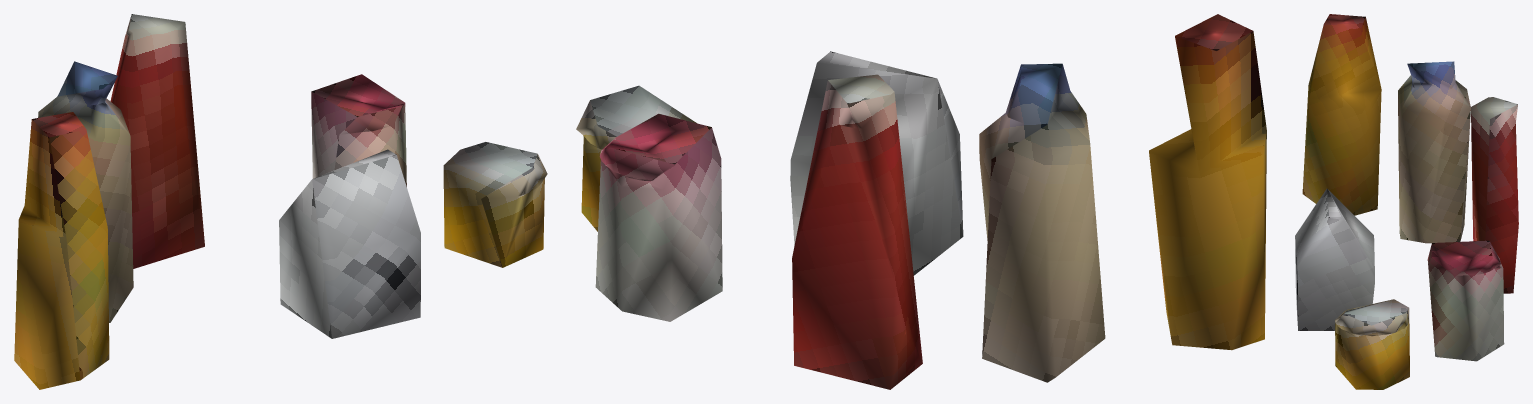
File: FOOD_BEVERAGE_SET-low.glb
The picture shows the model from 3 angles, left to right: view 1: azimuth 30°, elevation 25°; view 2: azimuth 150°, elevation 25°; view 3: azimuth 270°, elevation 25°; orthographic projection. The views are drawn at different scales.
Parts seen in each view (by area): view 1: FOOD_BEVERAGE_SET; view 2: FOOD_BEVERAGE_SET; view 3: FOOD_BEVERAGE_SET.
Boxes of the visible parts, x1,y1,x2,y2 form: FOOD_BEVERAGE_SET: (14, 14, 547, 389); FOOD_BEVERAGE_SET: (576, 14, 1266, 389); FOOD_BEVERAGE_SET: (1295, 14, 1518, 389).
Size of the model in its own units: 0.2632 by 0.1194 by 0.1266.
1 material, 1 textured.
